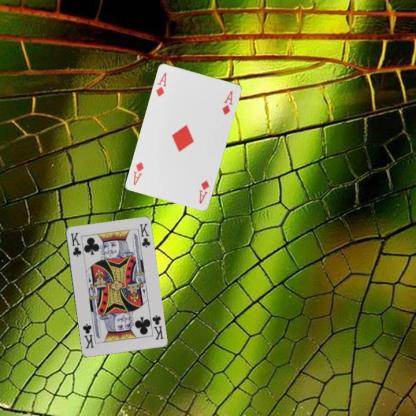Ad: (196, 178, 211, 205), (153, 71, 168, 98)
Kc: (149, 312, 165, 341), (68, 230, 82, 258)
